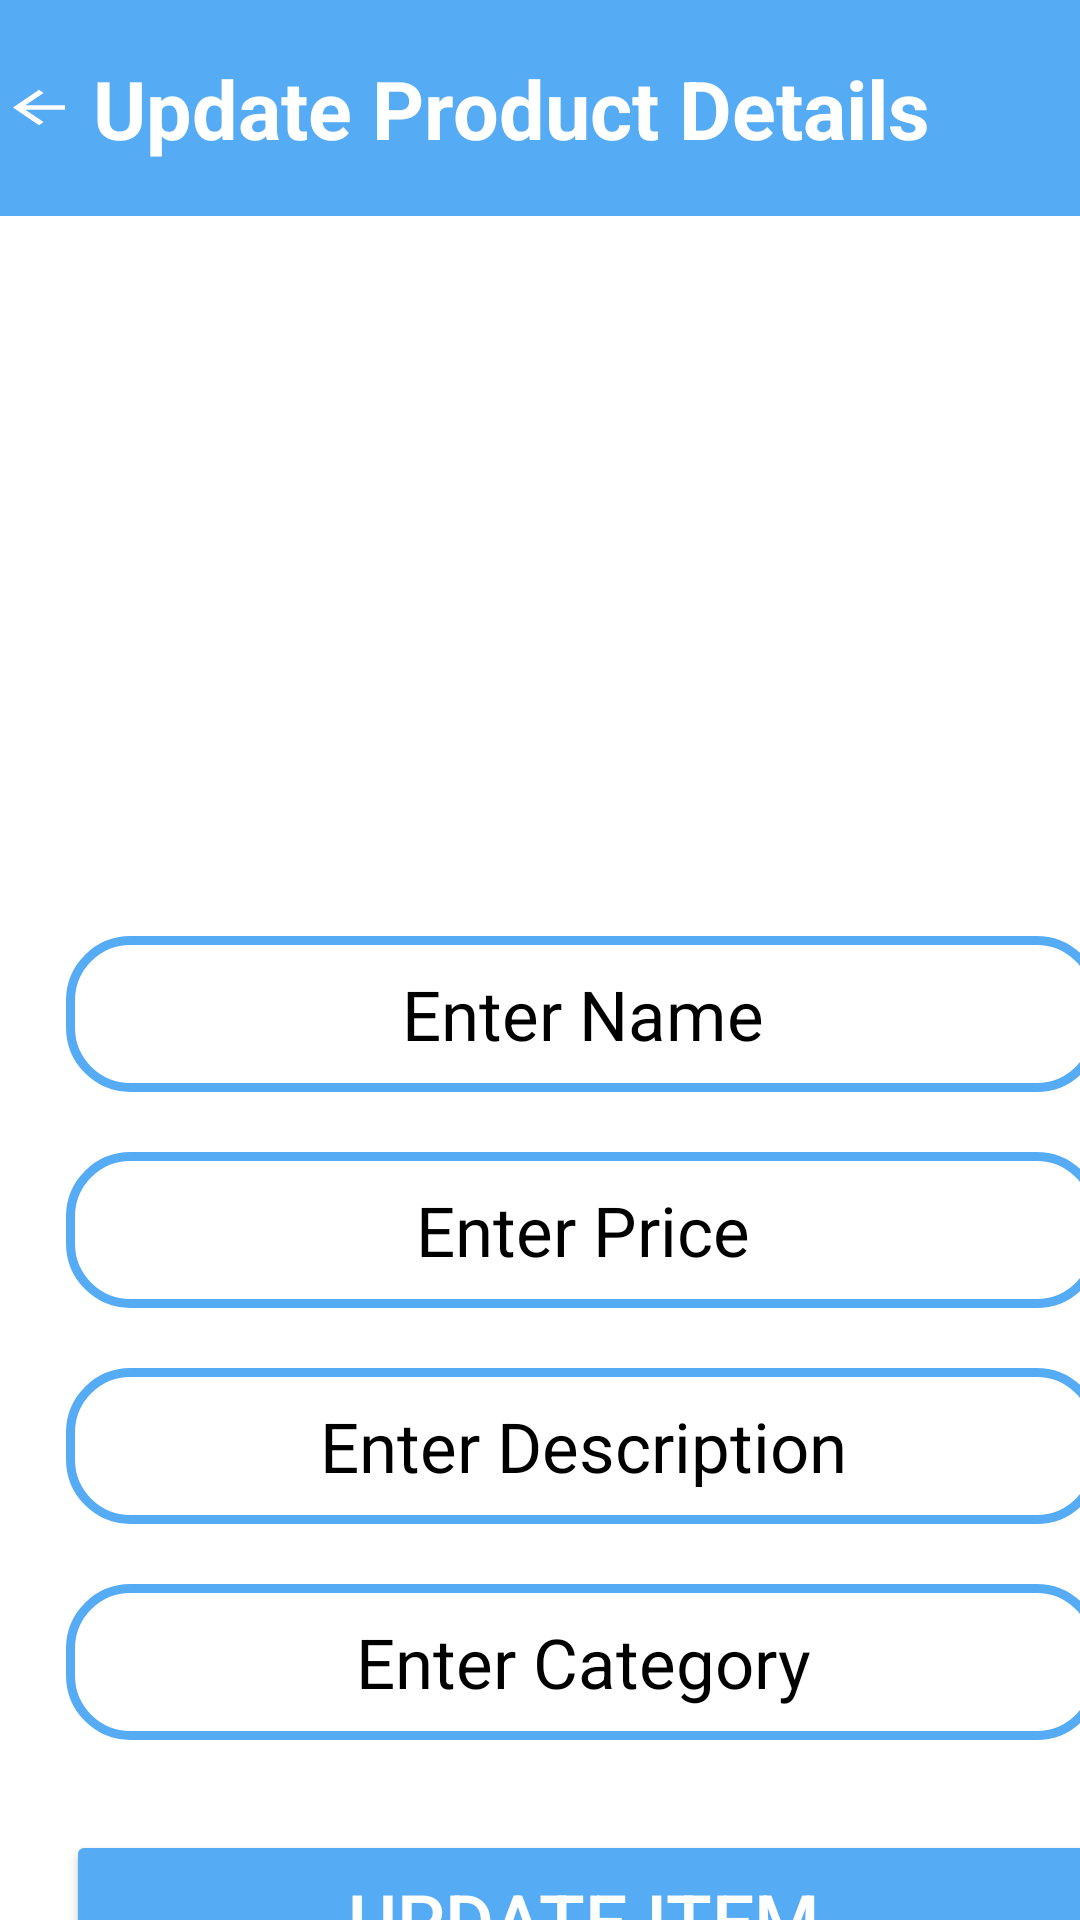

Screen size 1080 × 1920. Icon name, then its center in pixels as point (x, y):
back: point (39, 107)
